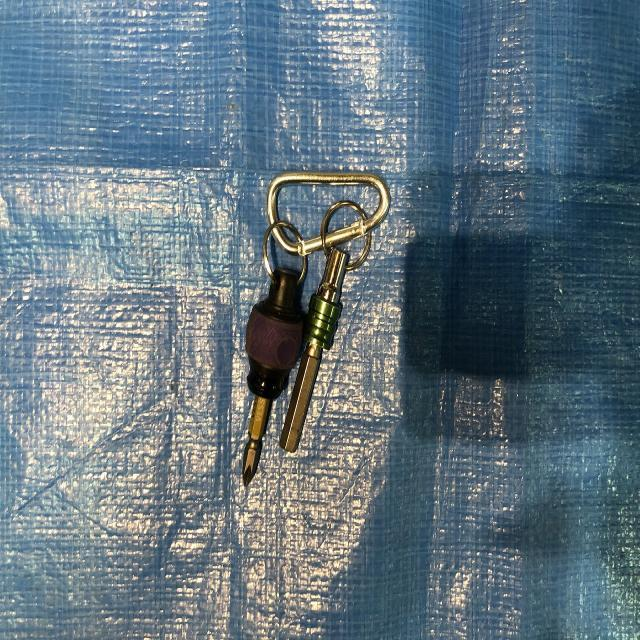screwdriver: (240, 168, 384, 507)
